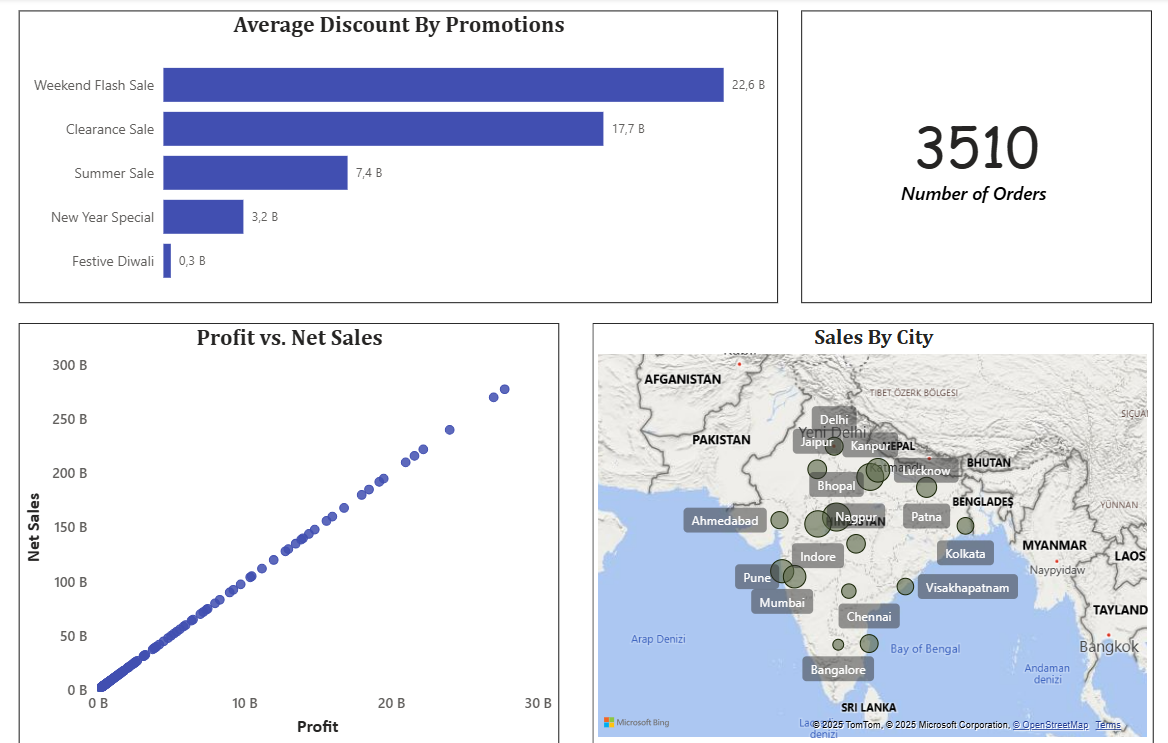

This screenshot's page, from the dashboard's own definition file:
{"tool":"powerbi","page":{"name":"Overview","canvas":[1280,720],"ordinal":0},"visuals":[{"type":"scatterChart","title":"Profit vs. Net Sales","fields":{"X":["Fact Table.Profit"],"Y":["Fact Table.Net Sales"]},"box":[17.5,313.8,521.2,406.2],"z":0},{"type":"barChart","title":"Average Discount By Promotions","fields":{"Y":["Avg(Fact Table.Discount)"],"Category":["Dim Promotion.Promotion Name"]},"box":[17.5,12.5,732.5,282.5],"z":1000},{"type":"map","title":"Sales By City","fields":{"Category":["Dim Customers.City"],"Size":["Sum(Fact Table.Net Sales)"]},"box":[571.2,313.8,541.2,406.2],"z":2000},{"type":"card","fields":{"Values":["Count(Fact Table.Order ID)"]},"box":[773.8,12.5,338.8,282.5],"z":3000}]}

Visuals, with their boxes on the page's 1280x720 design canvas (x1, y1, x2, y2). These are canvas units, not pixel positions in the 1168x743 screenshot, which may show the page scaled, cropped or inside an application window:
"Profit vs. Net Sales" scatterChart: x1=18 y1=314 x2=539 y2=720
"Average Discount By Promotions" barChart: x1=18 y1=12 x2=750 y2=295
"Sales By City" map: x1=571 y1=314 x2=1112 y2=720
card - Count(Fact Table.Order ID): x1=774 y1=12 x2=1113 y2=295
